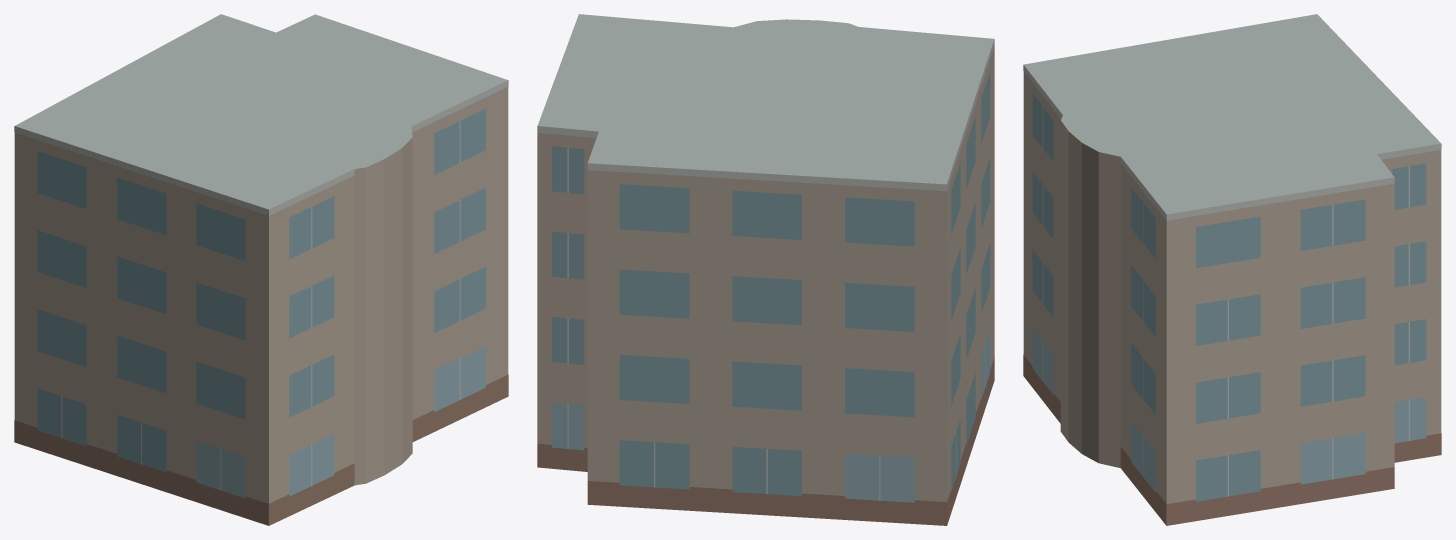
The model's file is survey-upis-32825924.glb.
3 renders of one model, left to right at view 1: azimuth 30°, elevation 25°; view 2: azimuth 150°, elevation 25°; view 3: azimuth 270°, elevation 25°, orthographic. The views are drawn at different scales.
Parts seen in each view (by area): view 1: survey-upis-32825924.tmp; view 2: survey-upis-32825924.tmp; view 3: survey-upis-32825924.tmp.
Part boxes in pixels (x1=…): survey-upis-32825924.tmp: x1=14, y1=14, x2=508, y2=525; survey-upis-32825924.tmp: x1=537, y1=14, x2=994, y2=525; survey-upis-32825924.tmp: x1=1023, y1=14, x2=1441, y2=525.
Bounding box in the file's own units: 16.86 × 12.2 × 14.85.
